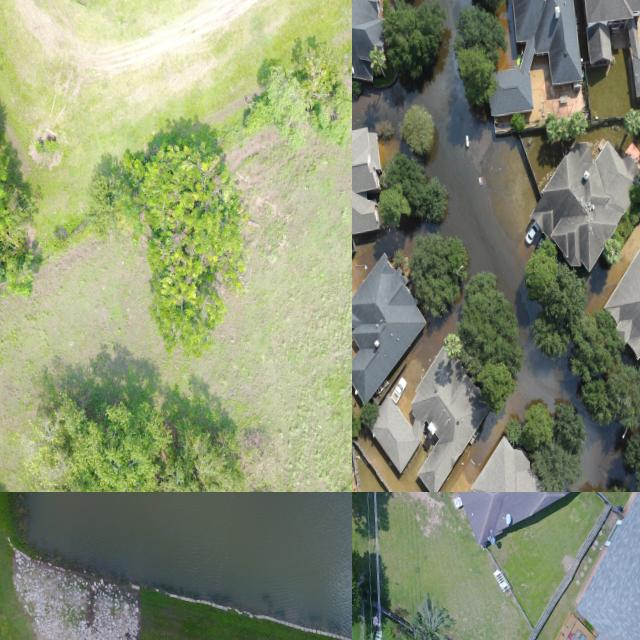fire: (352, 0, 576, 417), (25, 492, 352, 637), (569, 402, 627, 492)
